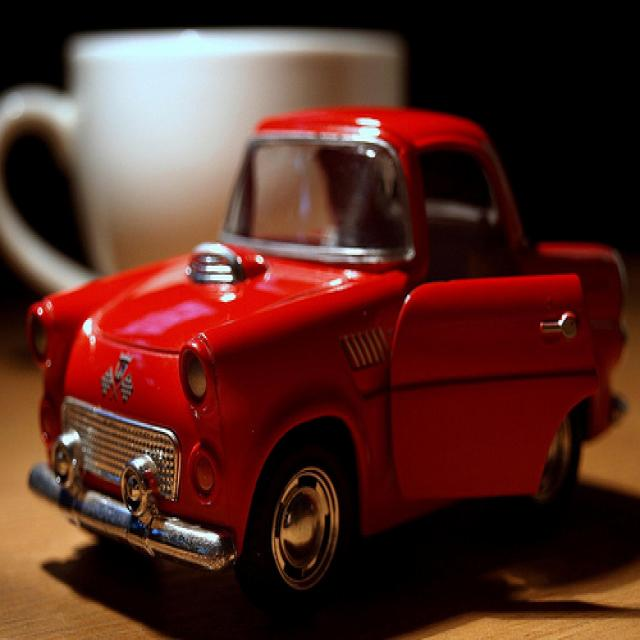Car: (25, 99, 630, 606)
